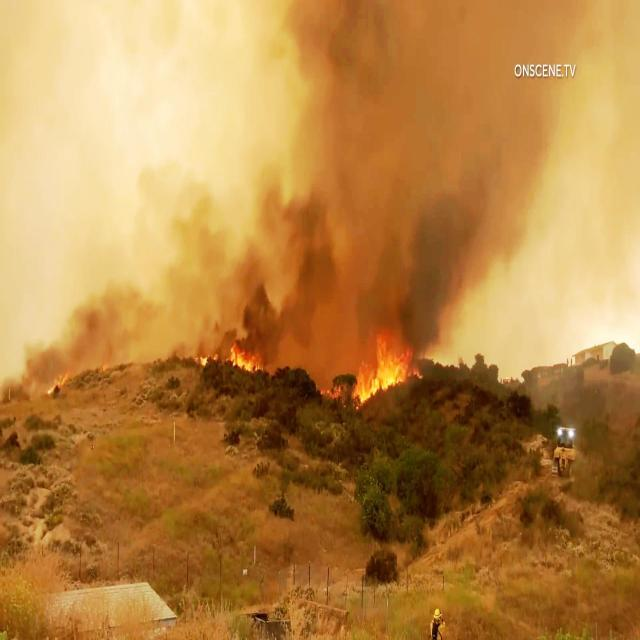Fire: (352, 329, 413, 415), (190, 344, 260, 382)
Smoke: (0, 0, 594, 335)
